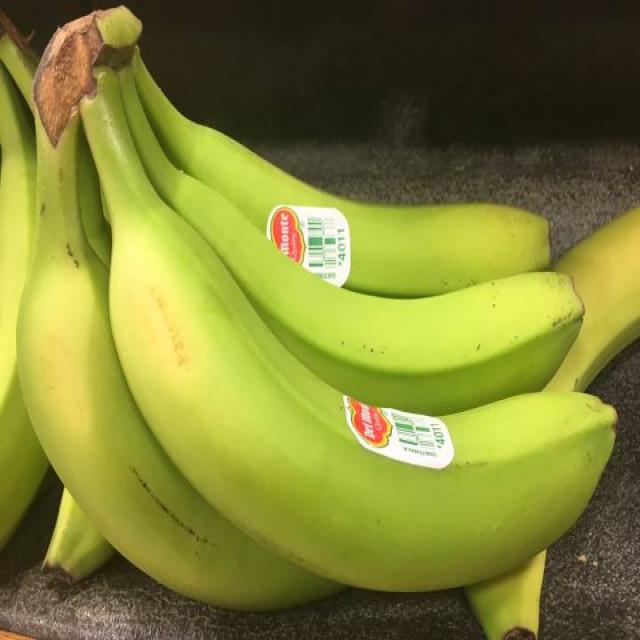banana: (20, 2, 606, 607)
